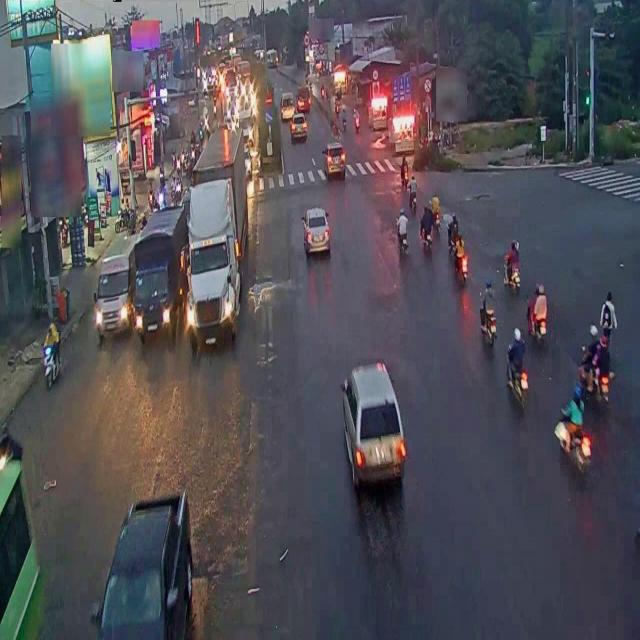car: (102, 441, 199, 640), (332, 348, 416, 514), (302, 205, 332, 256)
motorcycle: (556, 375, 596, 480), (502, 320, 534, 416), (476, 265, 500, 347), (526, 275, 550, 345), (501, 234, 525, 296)
truck: (185, 140, 239, 340), (136, 194, 183, 339), (97, 241, 137, 352)
